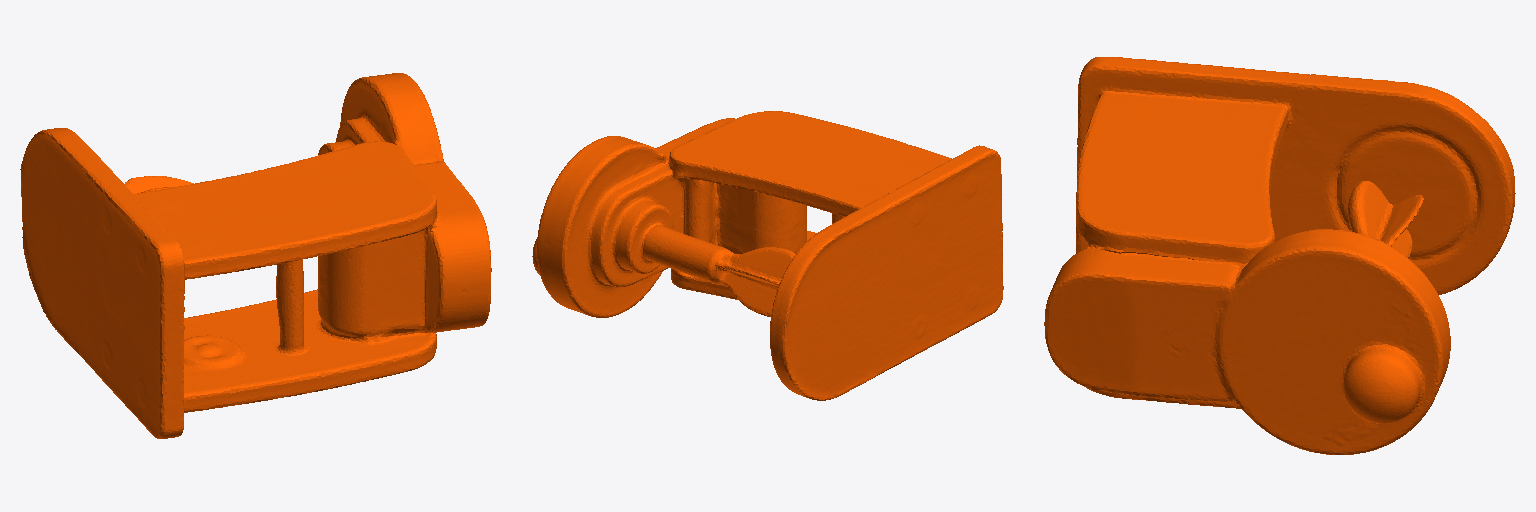
robot.urdf — mixer:
<?xml version="1.0" ?>
<robot name="mixer">
   <material name="obj_color">
      <color rgba="1.0 0.423529411765 0.0392156862745 1.0"/>
   </material>
   <link name="top">
      <inertial>
         <origin rpy="0.0001769282216030165 0.0004441932116604897 0.0004761848253390118" xyz="0.04595592001656145 0.05191277514101027 -0.00719851972377035"/>
         <mass value="0.1826894304070795"/>
         <inertia ixx="0.0004400333706988125" ixy="-3.516830113098367e-05" ixz="3.987106241468934e-06" iyy="0.0001816310394063618" iyz="-1.305771880397837e-06" izz="0.0004756418484973437"/>
      </inertial>
      <visual>
         <origin rpy="0 0 0" xyz="0 0 0"/>
         <geometry>
            <mesh filename="top_watertight_tiny.stl" scale="1 1 1"/>
         </geometry>
         <material name="obj_color"/>
      </visual>
      <collision>
         <origin rpy="0 0 0" xyz="0 0 0"/>
         <geometry>
            <mesh filename="top_watertight_tiny.obj" scale="1 1 1"/>
         </geometry>
      </collision>
   </link>
   <link name="bottom">
      <inertial>
         <origin rpy="0.00131702071842884 0.002440735498276227 0.002736025514173999" xyz="-0.05365839842743351 0.02319175774029796 -0.009248111938972445"/>
         <mass value="0.5896949643710692"/>
         <inertia ixx="0.001543765934130475" ixy="0.0004510005223313524" ixz="-1.191154064024929e-05" iyy="0.002214332959615809" iyz="-4.355848651422951e-06" izz="0.002735682837132782"/>
      </inertial>
      <visual>
         <origin rpy="0 0 0" xyz="0 0 0"/>
         <geometry>
            <mesh filename="bottom_watertight_tiny.stl" scale="1 1 1"/>
         </geometry>
         <material name="obj_color"/>
      </visual>
      <collision>
         <origin rpy="0 0 0" xyz="0 0 0"/>
         <geometry>
            <mesh filename="bottom_watertight_tiny.obj" scale="1 1 1"/>
         </geometry>
      </collision>
   </link>
   <joint name="rotation" type="revolute">
      <origin xyz="0 0 0"/>
      <axis xyz="0 0 -1"/>
      <parent link="bottom"/>
      <child link="top"/>
      <dynamics damping="0.0" friction="0.000"/>
      <limit effort="1000" velocity="200" lower="0" upper="3.141592653589793"/>
   </joint>
</robot>

--- Facts derived from the render (not from the file) ---
The picture shows the robot from 3 angles, left to right: view 1: azimuth 30°, elevation 25°; view 2: azimuth 150°, elevation 25°; view 3: azimuth 270°, elevation 25°; orthographic projection.
Robot: mixer — 2 links, 1 joints (1 revolute); root link bottom; default pose: all joints at 0.
Visible links, largest first — view 1: bottom, top; view 2: bottom, top; view 3: bottom, top.
Link boxes in pixels (left/top/right/bottom): bottom: left=20, top=128, right=440, bottom=438; top: left=124, top=73, right=491, bottom=332; bottom: left=669, top=111, right=1003, bottom=400; top: left=532, top=118, right=795, bottom=317; bottom: left=1076, top=57, right=1515, bottom=408; top: left=1044, top=181, right=1450, bottom=454.
Size in the robot's own frame: 0.2237 by 0.205 by 0.1031 metres.
Meshes: 2 distinct files referenced, 2 mesh visuals loaded (2 binary STL).